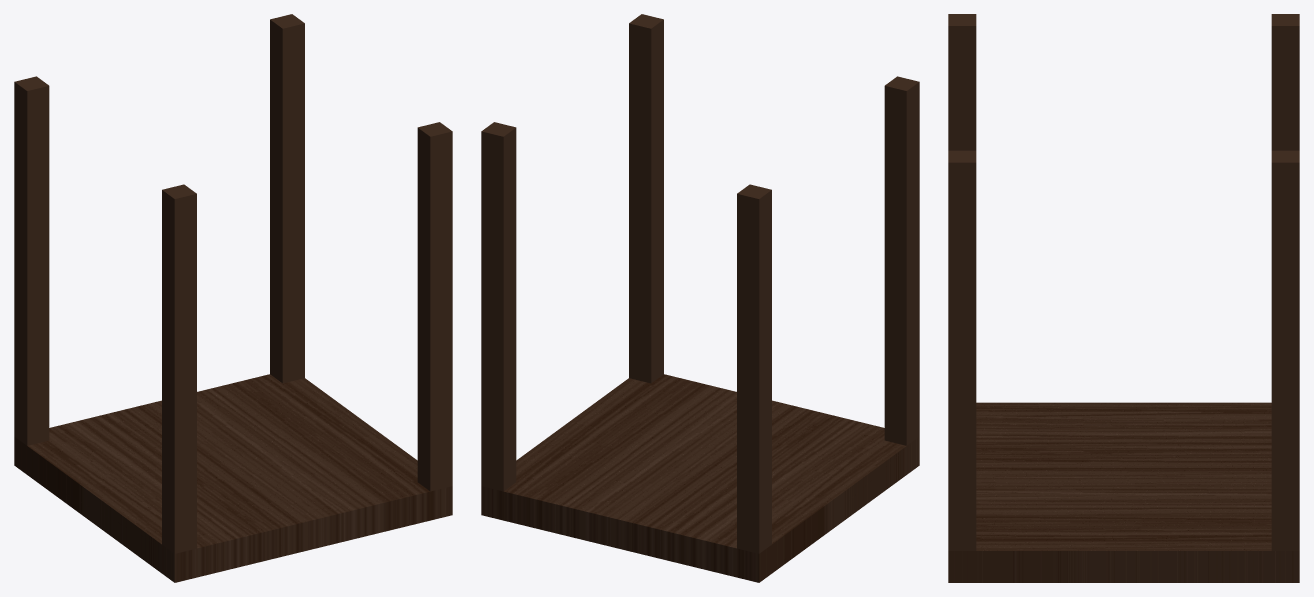
3 renders of one model, left to right at view 1: azimuth 30°, elevation 25°; view 2: azimuth 150°, elevation 25°; view 3: azimuth 270°, elevation 25°, orthographic. The views are drawn at different scales.
Parts seen in each view (by area): view 1: box_2_3_2; view 2: box_2_3_2; view 3: box_2_3_2.
Boxes of the visible parts, x1,y1,x2,y2 form: box_2_3_2: (14,14,452,582); box_2_3_2: (481,14,919,582); box_2_3_2: (948,14,1299,582).
Bounding box in the file's own units: 0.1 × 0.132 × 0.1.
Materials: 2 (1 with a texture image).
